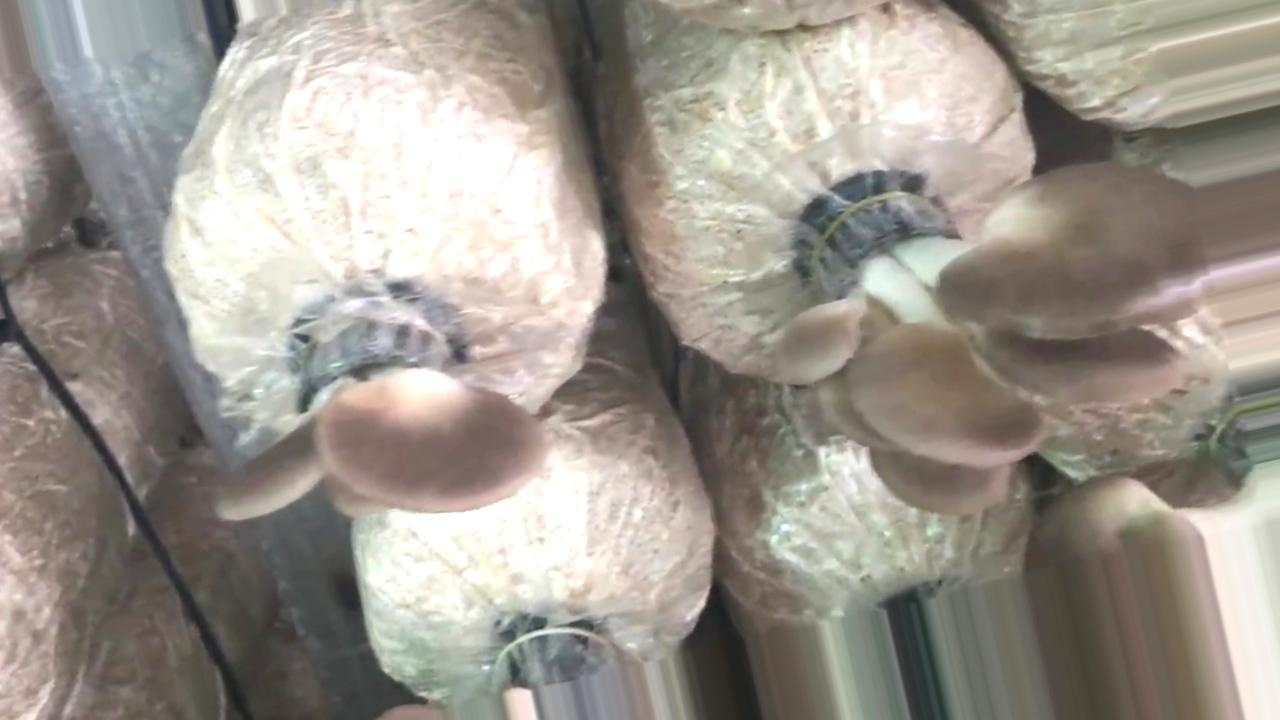nam: (763, 162, 1214, 516), (218, 291, 556, 538)
